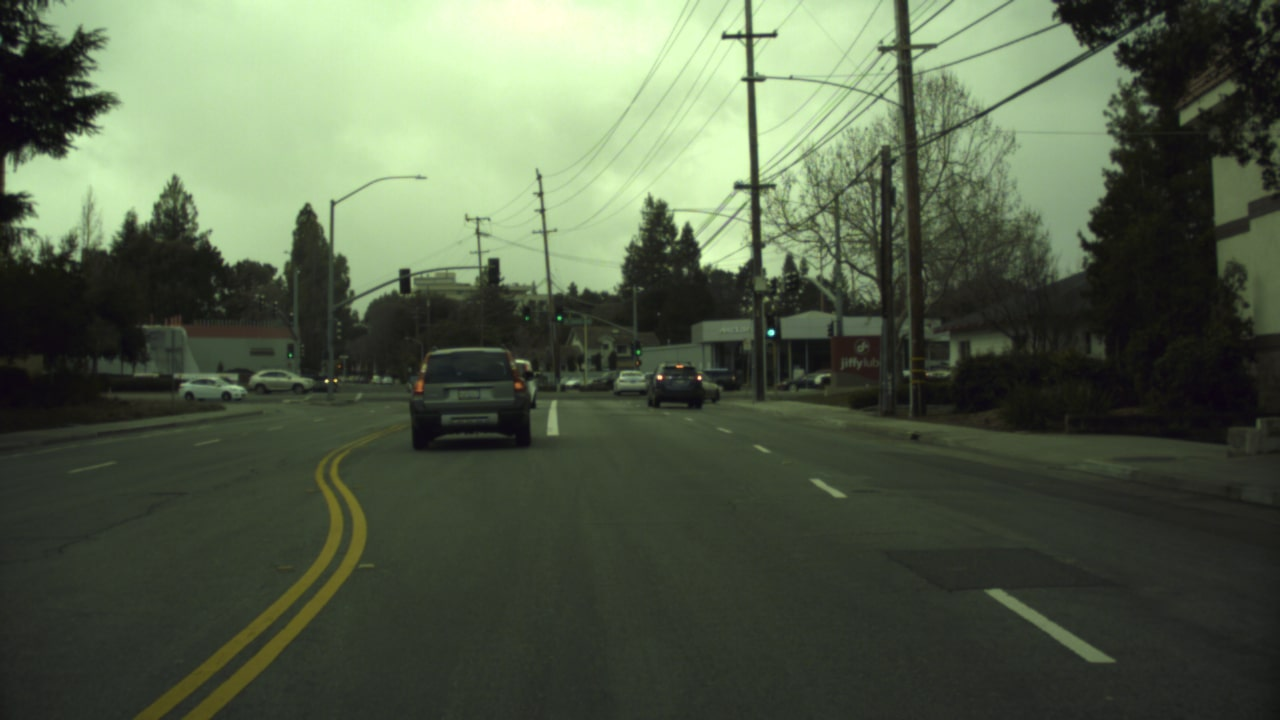signal: (763, 318, 781, 345), (552, 309, 566, 327), (519, 306, 533, 324), (632, 342, 642, 359)
